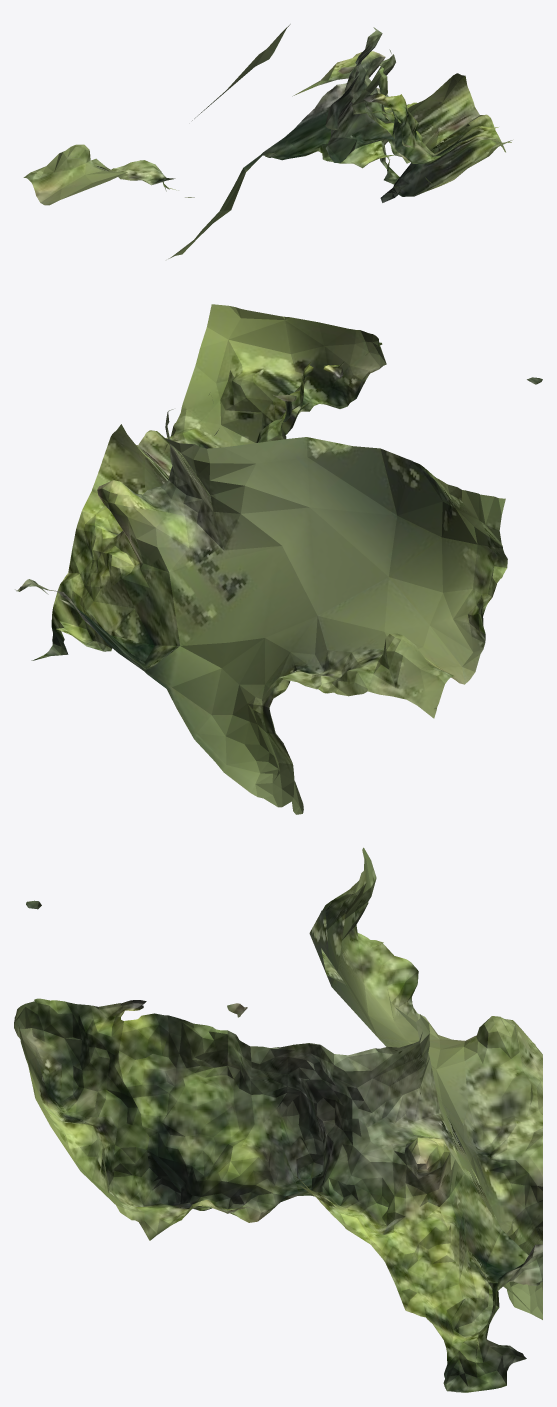
3 renders of one model, top to bottom at view 1: azimuth 30°, elevation 25°; view 2: azimuth 150°, elevation 25°; view 3: azimuth 270°, elevation 25°, orthographic. The views are drawn at different scales.
Size of the model in its own units: 26.11 by 17.65 by 22.45.
Materials: 3 (3 with a texture image).
